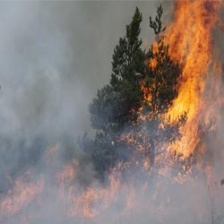fire: (171, 10, 210, 136)
smoke: (1, 41, 139, 222)
